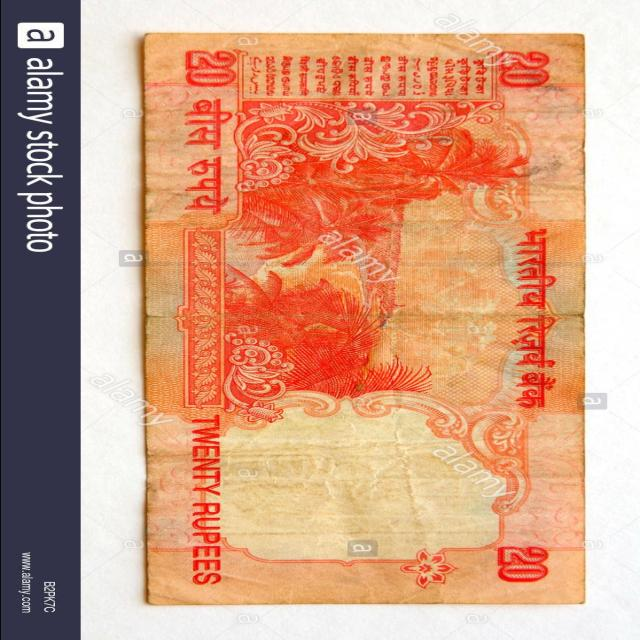20IndianRupees: (150, 36, 579, 608)
